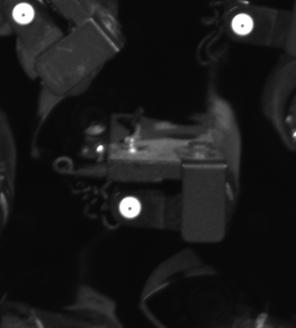fiber: (226, 10, 264, 44), (115, 191, 148, 224), (6, 1, 44, 28)
